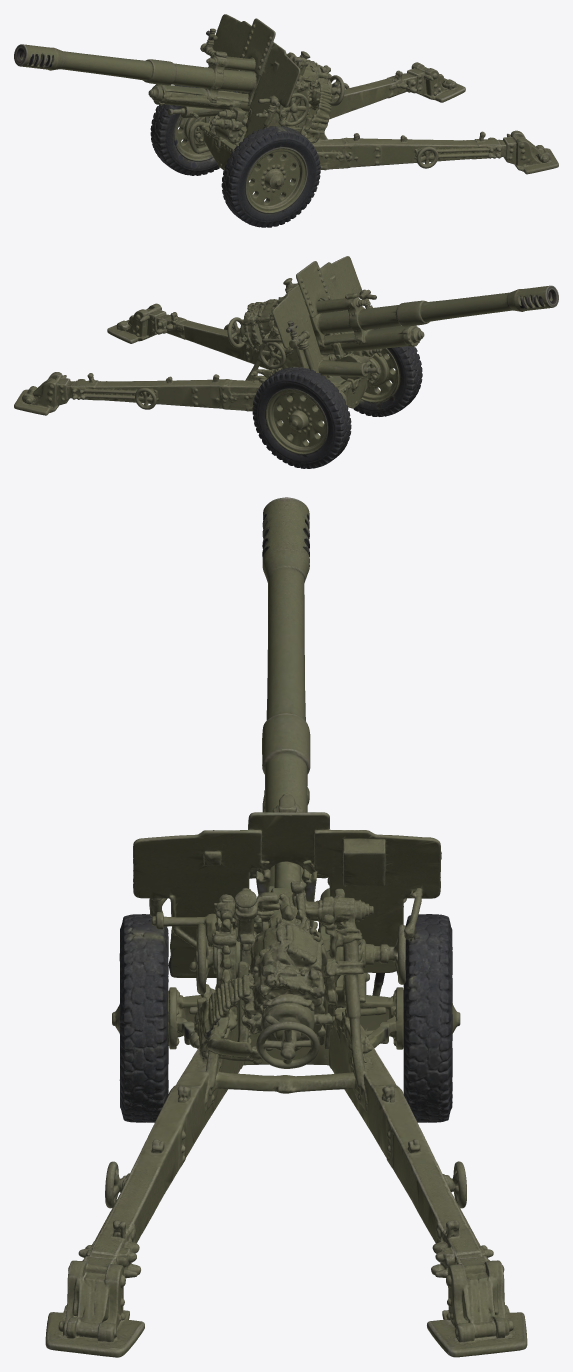
3 renders of one model, top to bottom at view 1: azimuth 30°, elevation 25°; view 2: azimuth 150°, elevation 25°; view 3: azimuth 270°, elevation 25°, orthographic. The views are drawn at different scales.
Bounding box in the file's own units: 1.9 × 0.7571 × 0.8084.
1 material, 1 textured.
